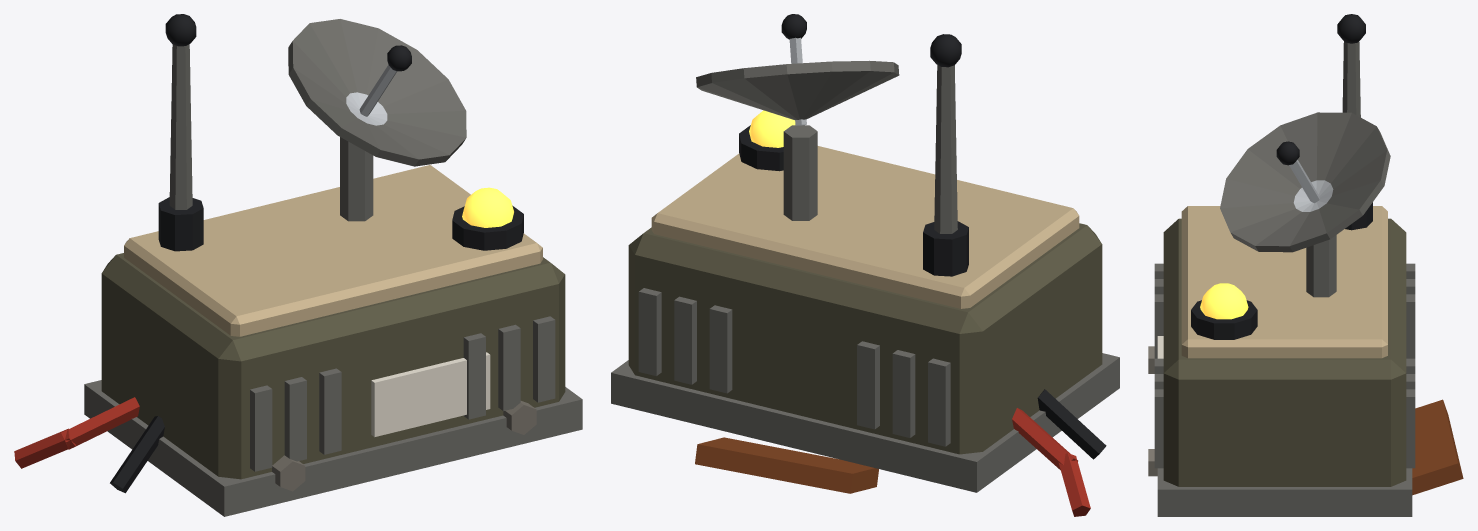
File: drone_transponder.glb
3 views of the same model, side by side, from view 1: azimuth 30°, elevation 25°; view 2: azimuth 150°, elevation 25°; view 3: azimuth 270°, elevation 25° (orthographic). The views are drawn at different scales.
Visible parts, largest first — view 1: drone_transponder; view 2: drone_transponder; view 3: drone_transponder.
Part boxes in pixels (box(x1,y1,x2,y2)): drone_transponder: box(14, 14, 582, 516); drone_transponder: box(611, 14, 1119, 516); drone_transponder: box(1148, 14, 1463, 516).
Size of the model in its own units: 0.1553 by 0.1448 by 0.1039.
